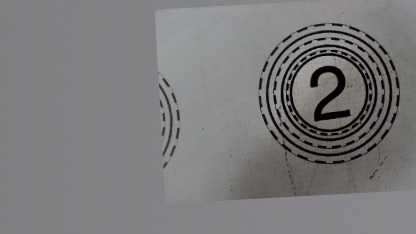2r: (250, 21, 402, 167)
